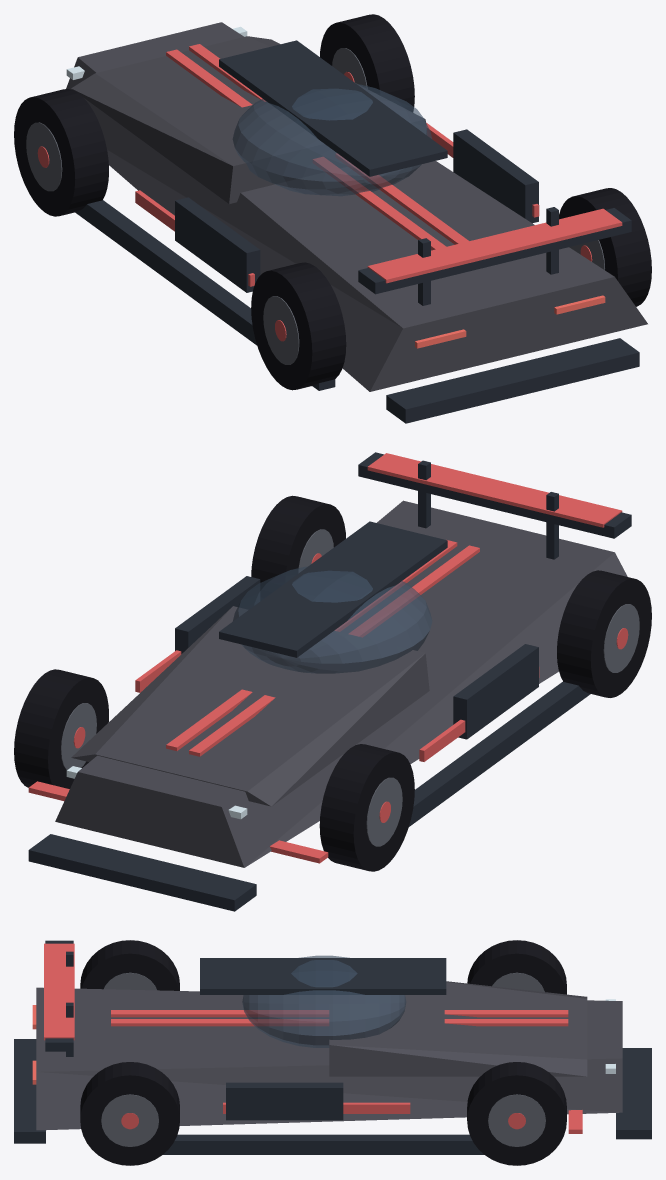
File: onyx.glb
The picture shows the model from 3 angles, top to bottom: view 1: azimuth 30°, elevation 25°; view 2: azimuth 150°, elevation 25°; view 3: azimuth 270°, elevation 25°; orthographic projection. The views are drawn at different scales.
Visible parts, largest first — view 1: body_chassis, hood_slope, carbon_roof_spine, dark_cockpit_canopy, rear_diffuser, left_rear_tire, left_front_tire, left_side_skirt, rear_spoiler_accent, right_front_tire, right_rear_tire, left_side_intake (+8 smaller); view 2: body_chassis, hood_slope, carbon_roof_spine, dark_cockpit_canopy, left_front_tire, left_rear_tire, front_splitter, right_front_tire, left_side_skirt, right_rear_tire, rear_spoiler_accent, left_side_intake (+12 smaller); view 3: body_chassis, hood_slope, carbon_roof_spine, dark_cockpit_canopy, right_side_skirt, right_front_tire, right_rear_tire, right_side_intake, left_rear_tire, left_front_tire, front_splitter, rear_spoiler_accent (+10 smaller).
Boxes of the visible parts, x1,y1,x2,y2 form: body_chassis: (66, 22, 647, 391); hood_slope: (71, 36, 426, 203); carbon_roof_spine: (219, 40, 447, 176); dark_cockpit_canopy: (232, 84, 431, 196); rear_diffuser: (386, 338, 639, 423); left_rear_tire: (251, 262, 346, 390); left_front_tire: (14, 89, 108, 216); left_side_skirt: (75, 200, 335, 390); rear_spoiler_accent: (367, 208, 622, 283); right_front_tire: (320, 14, 414, 112); right_rear_tire: (559, 188, 651, 306); left_side_intake: (175, 197, 260, 292); body_chassis: (55, 500, 627, 867); hood_slope: (71, 606, 429, 806); carbon_roof_spine: (219, 521, 447, 657); dark_cockpit_canopy: (233, 566, 432, 673); left_front_tire: (319, 744, 414, 871); left_rear_tire: (557, 570, 651, 697); front_splitter: (28, 834, 256, 911); right_front_tire: (14, 669, 108, 788); left_side_skirt: (409, 681, 590, 826); right_rear_tire: (251, 495, 345, 600); rear_spoiler_accent: (367, 453, 622, 527); left_side_intake: (453, 644, 538, 739); body_chassis: (36, 987, 622, 1130); hood_slope: (329, 981, 587, 1076); carbon_roof_spine: (200, 958, 446, 994); dark_cockpit_canopy: (242, 955, 406, 1047); right_side_skirt: (163, 1134, 483, 1154); right_front_tire: (467, 1062, 566, 1165); right_rear_tire: (80, 1062, 179, 1165); right_side_intake: (226, 1082, 343, 1120); left_rear_tire: (80, 940, 179, 990); left_front_tire: (467, 940, 566, 994); front_splitter: (616, 1048, 651, 1139); rear_spoiler_accent: (44, 943, 74, 1040).
Bounding box in the file's own units: 2.52 × 1.1 × 4.98.
